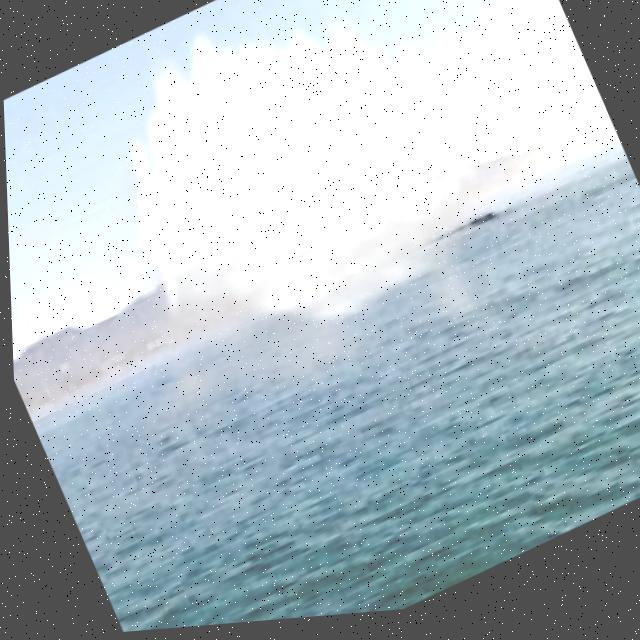Smoke: (3, 0, 566, 501)
